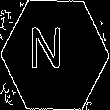N_S: (37, 30, 73, 80)
